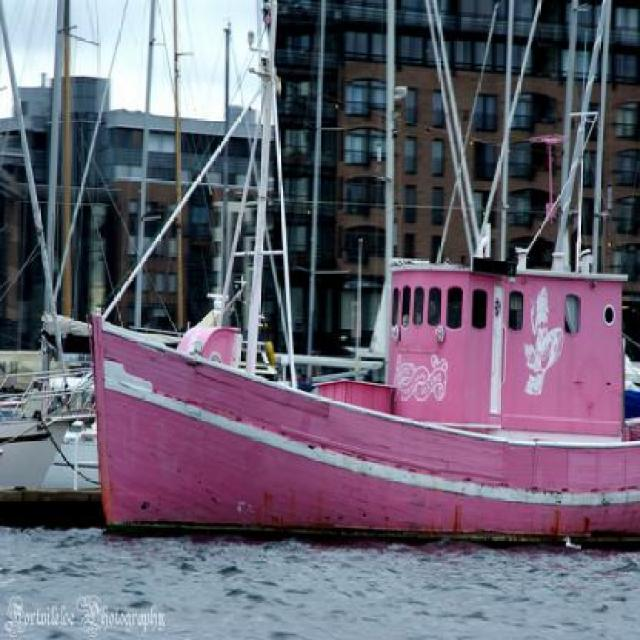ship: (73, 231, 638, 564)
